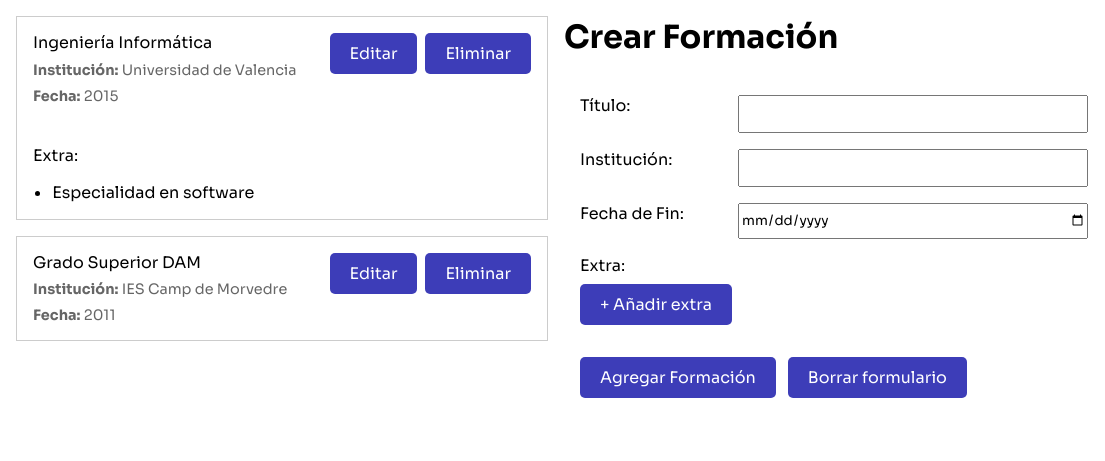
it: <Formacion /> › «Editar» vuelca los datos de la Card en el formulario
Click the button "Editar" next to "Universidad de Valencia" at (374, 54), box [330,33,418,74]
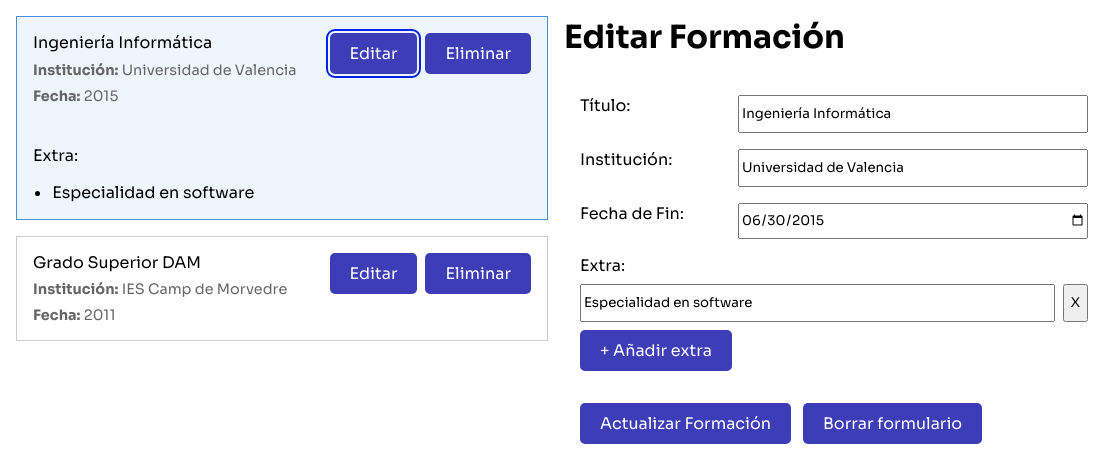
Expected: the field labelled "Título:" holds "Ingeniería Informática", [738,95,1088,133]
Expected: the field labelled "Institución:" holds "Universidad de Valencia", [738,149,1088,187]
Expected: the field named "Extra 1" holds "Especialidad en software", [580,284,1055,322]
